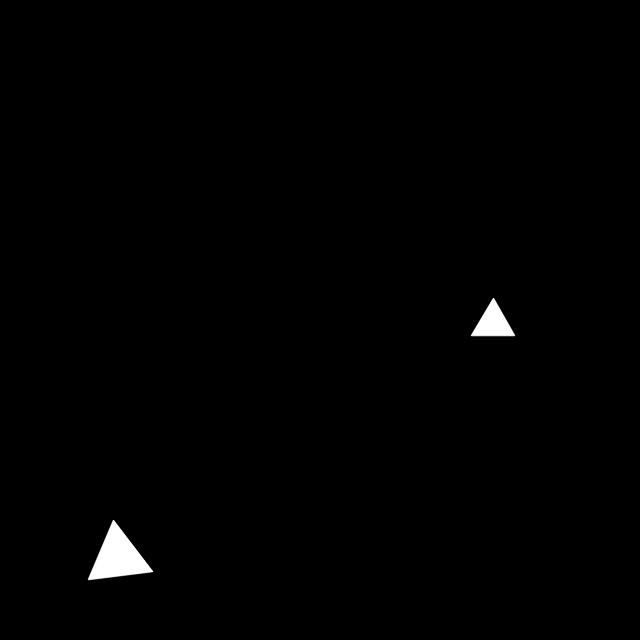Triangle: (72, 512, 168, 588), (456, 289, 524, 348)
